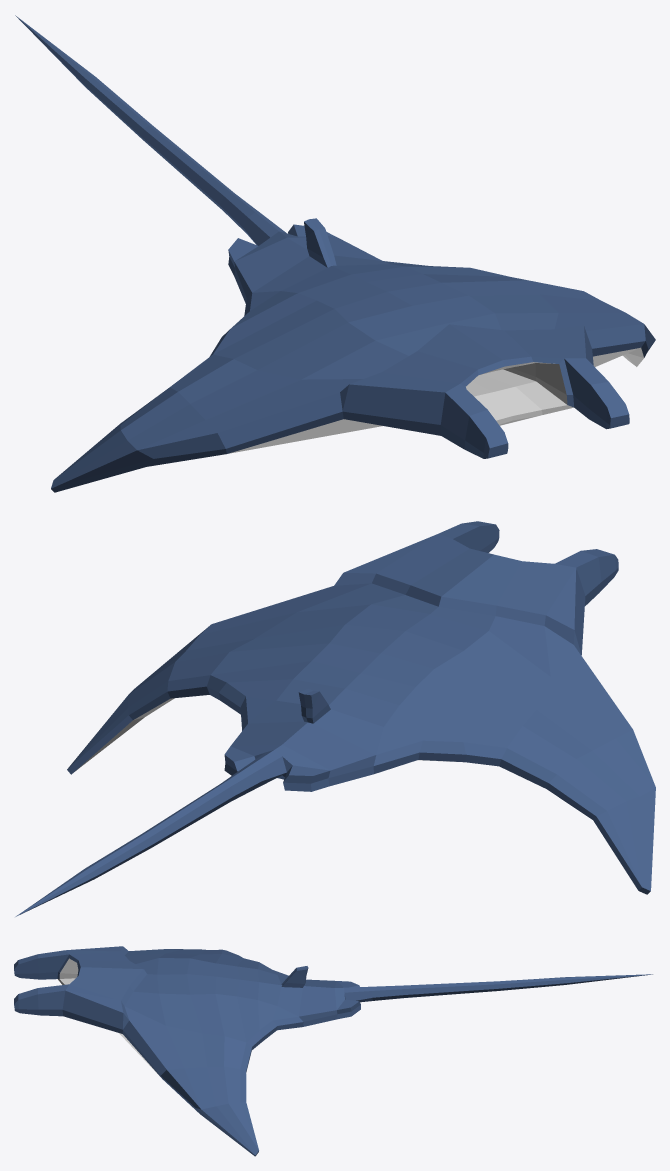
Rendered from manta.glb.
3 renders of one model, top to bottom at view 1: azimuth 30°, elevation 25°; view 2: azimuth 150°, elevation 25°; view 3: azimuth 270°, elevation 25°, orthographic. The views are drawn at different scales.
Visible parts, largest first — view 1: MantaRay; view 2: MantaRay; view 3: MantaRay.
Boxes of the visible parts, x1=… form: MantaRay: x1=15, y1=15, x2=655, y2=492; MantaRay: x1=15, y1=521, x2=655, y2=916; MantaRay: x1=14, y1=946, x2=652, y2=1156.
Bounding box in the file's own units: 7.34 × 2.19 × 11.71.
